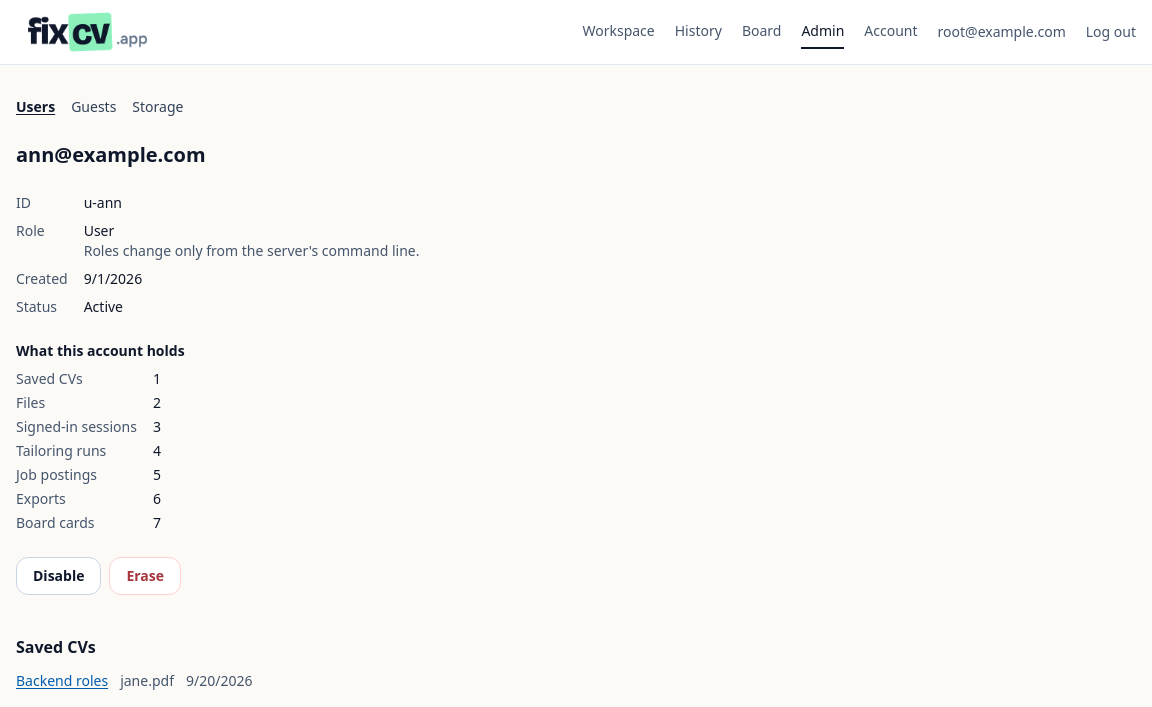
Test: AC-32 — what refetches them › a delete refetches the lists and the overview counts and drops the item
Click the link "Backend roles" at point(62, 681), box [16,671,108,691]
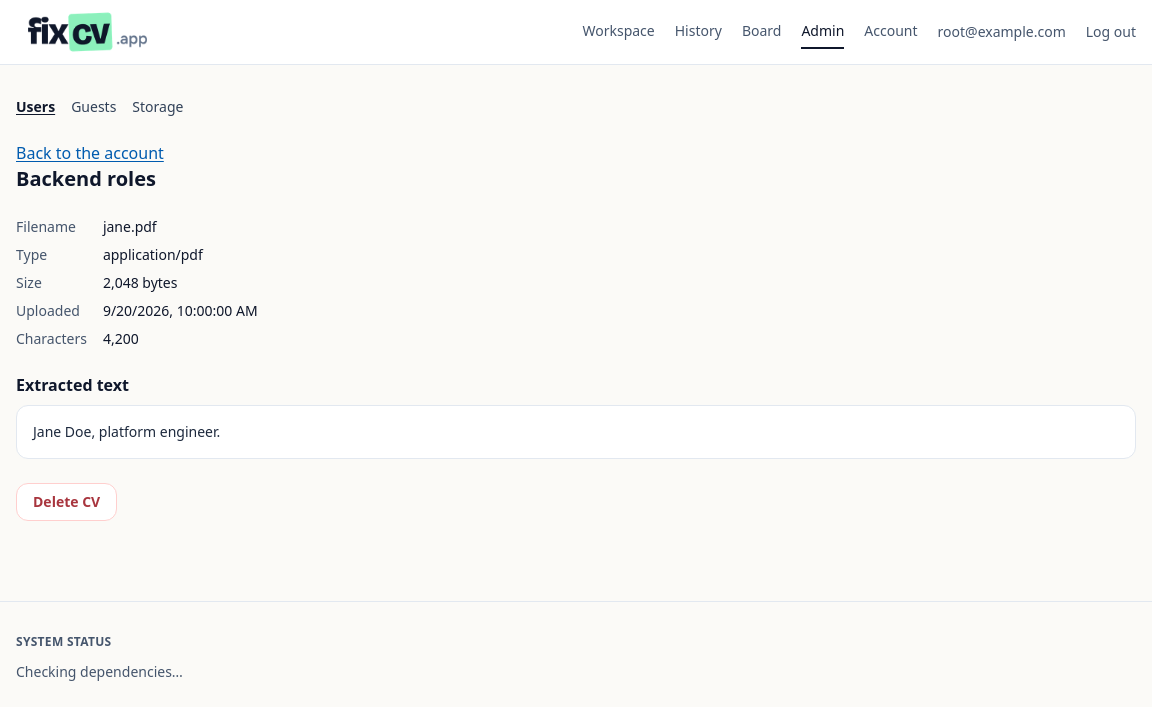
Expected: the button "Delete CV" is enabled
Click the button "Delete CV" at point(67, 502), box [16,483,117,521]
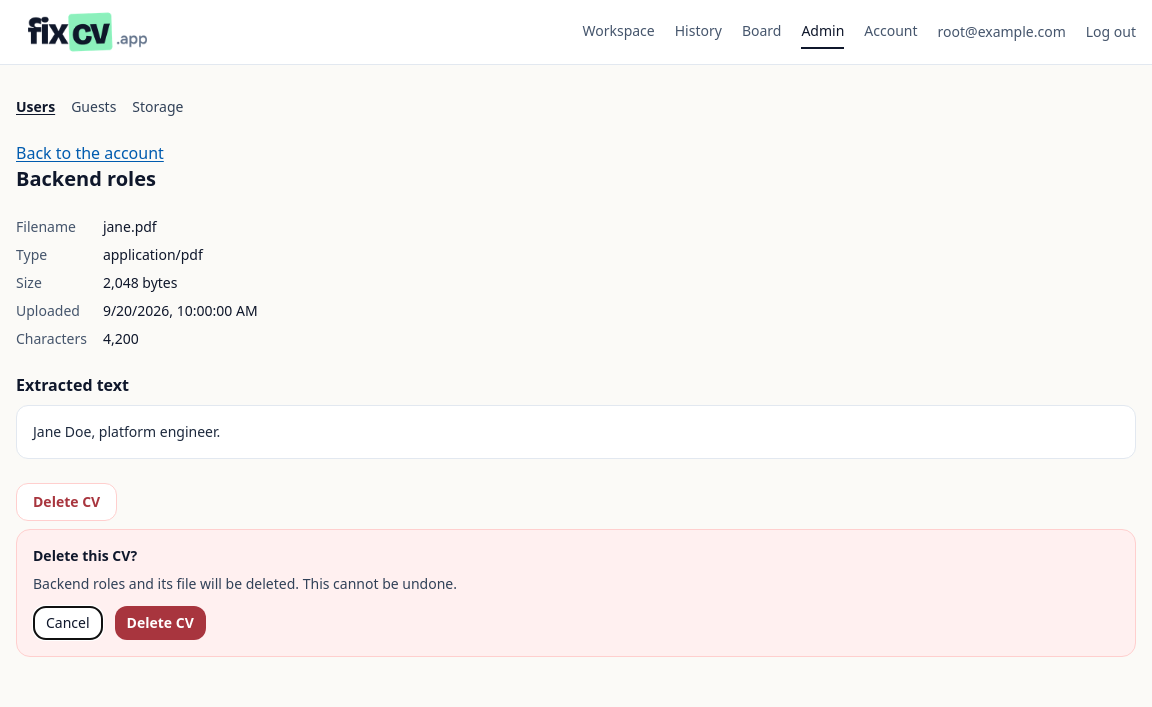
Expected: the button "Delete CV" below "Delete this CV?" is enabled
Click the button "Delete CV" below "Delete this CV?" at point(160, 623), box [115,606,206,640]
(page scrolled)
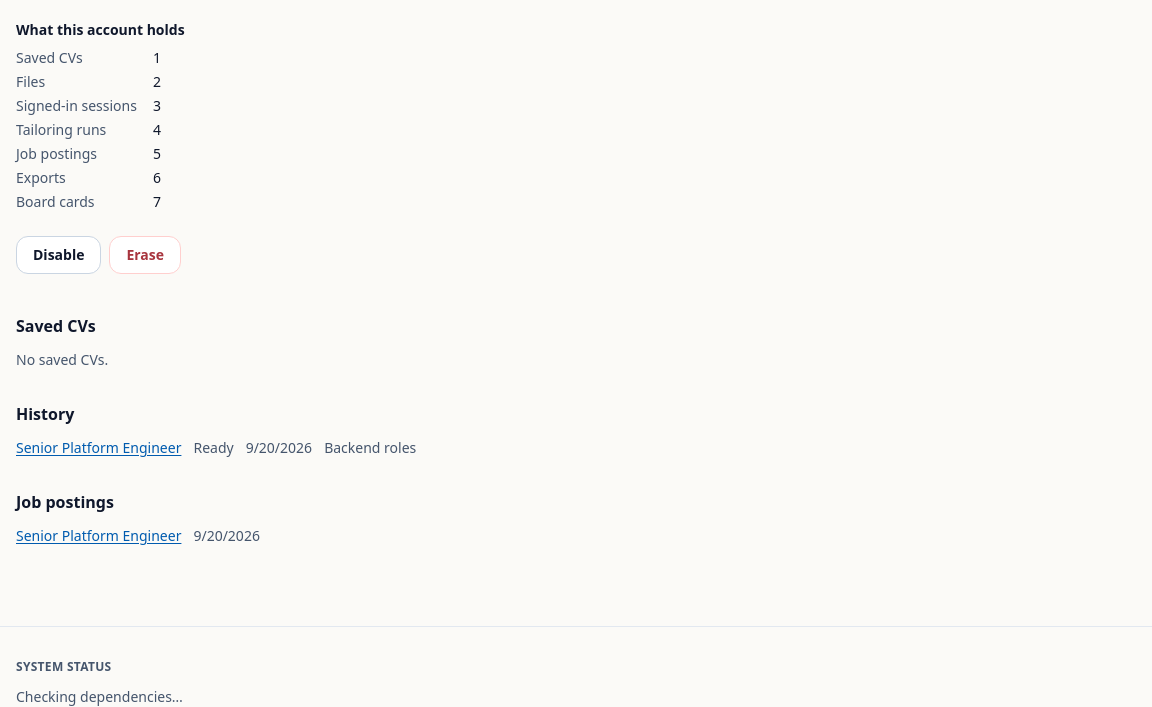
Expected: the text "No saved CVs." is shown, [16,350,108,369]
